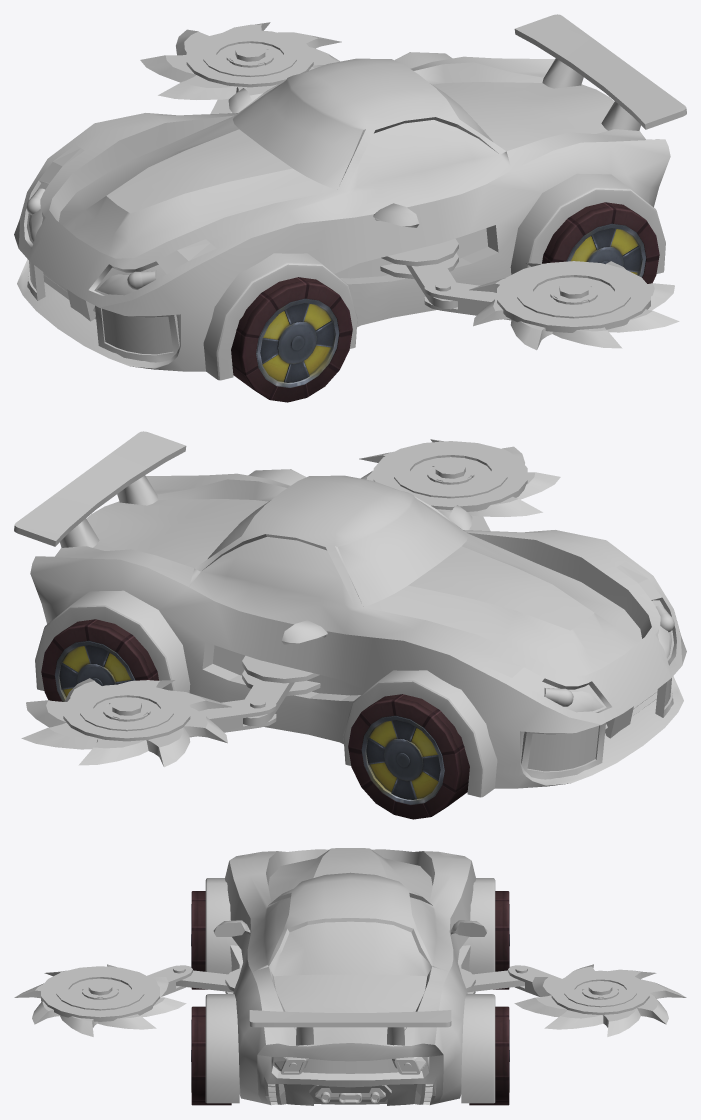
Rendered from falali_level3.FBX.
3 renders of one model, top to bottom at view 1: azimuth 30°, elevation 25°; view 2: azimuth 150°, elevation 25°; view 3: azimuth 270°, elevation 25°, orthographic. The views are drawn at different scales.
Parts seen in each view (by area): view 1: falali_level3, falali_level3_wheel (×2), falali_level3_weaponL, falali_level3_weaponR, falali_level3_weiyi, falali_level3_3, falali_level3_1, falali_level3_2; view 2: falali_level3, falali_level3_wheel (×2), falali_level3_weaponR, falali_level3_weaponL, falali_level3_weiyi, falali_level3_3, falali_level3_1, falali_level3_2; view 3: falali_level3, falali_level3_weaponL, falali_level3_weaponR, falali_level3_wheel (×4), falali_level3_weiyi, falali_level3_2, falali_level3_3, falali_level3_1.
Part boxes in pixels (x1,y1,x2,y2): falali_level3: [14, 52, 670, 380]; falali_level3_wheel (×2): [231, 202, 659, 402]; falali_level3_weaponL: [469, 261, 679, 350]; falali_level3_weaponR: [140, 22, 341, 113]; falali_level3_weiyi: [514, 14, 686, 130]; falali_level3_3: [210, 98, 511, 320]; falali_level3_1: [380, 238, 458, 279]; falali_level3_2: [406, 262, 457, 309]; falali_level3: [30, 469, 686, 797]; falali_level3_wheel (×2): [41, 619, 469, 819]; falali_level3_weaponR: [21, 678, 231, 767]; falali_level3_weaponL: [359, 439, 560, 530]; falali_level3_weiyi: [14, 431, 186, 547]; falali_level3_3: [189, 515, 490, 737]; falali_level3_1: [242, 655, 320, 696]; falali_level3_2: [243, 679, 294, 726]; falali_level3: [205, 848, 495, 1105]; falali_level3_weaponL: [14, 964, 186, 1036]; falali_level3_weaponR: [514, 964, 686, 1036]; falali_level3_wheel (×4): [191, 891, 509, 1105]; falali_level3_weiyi: [249, 1010, 451, 1045]; falali_level3_2: [176, 970, 524, 992]; falali_level3_3: [147, 965, 561, 996]; falali_level3_1: [225, 967, 475, 993].
Bounding box in the file's own units: 58.96 × 20.26 × 77.85.
